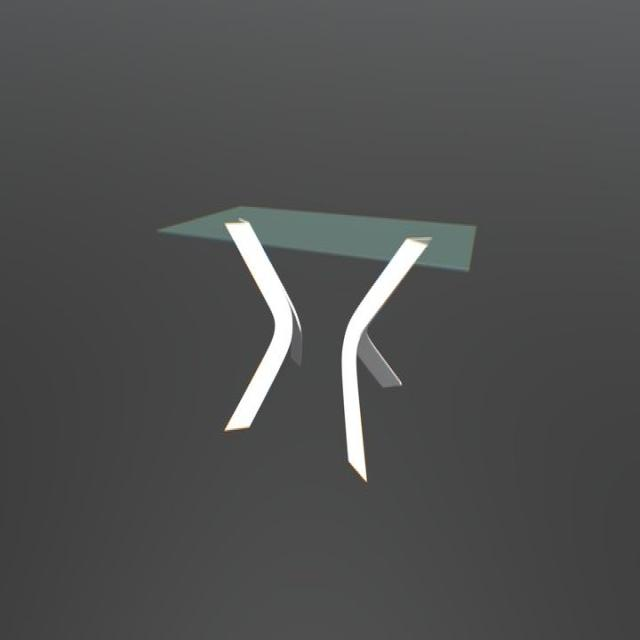table: (157, 202, 478, 484)
